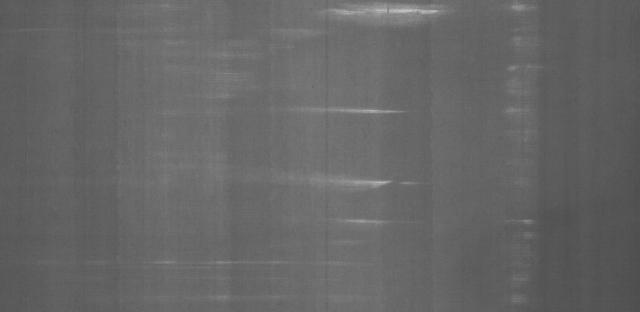waist_folding: (139, 15, 538, 309)
